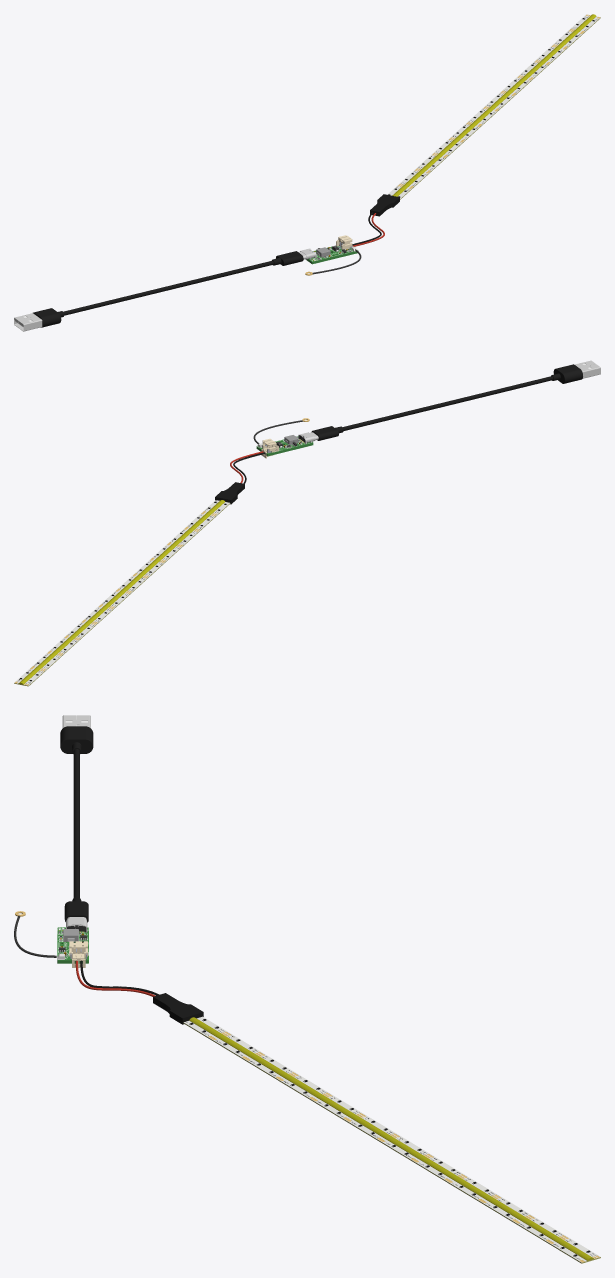
3 views of the same model, one above another, from view 1: azimuth 30°, elevation 25°; view 2: azimuth 210°, elevation 25°; view 3: azimuth 270°, elevation 25° (orthographic). The views are drawn at different scales.
Visible parts, largest first — view 1: Node12, Node19, Node23, Node14, Node4; view 2: Node12, Node19, Node23, Node4, Node14; view 3: Node12, Node23, Node19, Node4, Node11.
Boxes of the visible parts, <box> form: Node12: <box>351,14,600,251</box>; Node19: <box>33,251,303,327</box>; Node23: <box>392,14,596,196</box>; Node14: <box>14,248,319,331</box>; Node4: <box>370,17,596,216</box>; Node12: <box>14,443,262,685</box>; Node19: <box>311,364,582,440</box>; Node23: <box>18,500,225,684</box>; Node4: <box>18,482,244,683</box>; Node14: <box>285,360,600,444</box>; Node12: <box>57,954,600,1262</box>; Node23: <box>189,1017,593,1260</box>; Node19: <box>60,726,93,922</box>; Node4: <box>153,993,595,1259</box>; Node11: <box>183,1022,600,1263</box>.
Bounding box in the file's own units: 0.5392 × 0.00926 × 0.2494.
